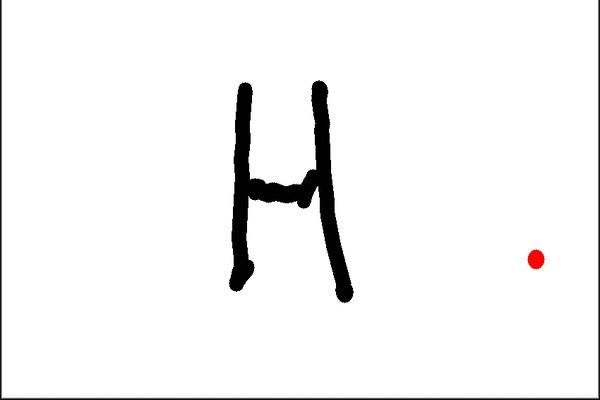H: (224, 76, 357, 312)
